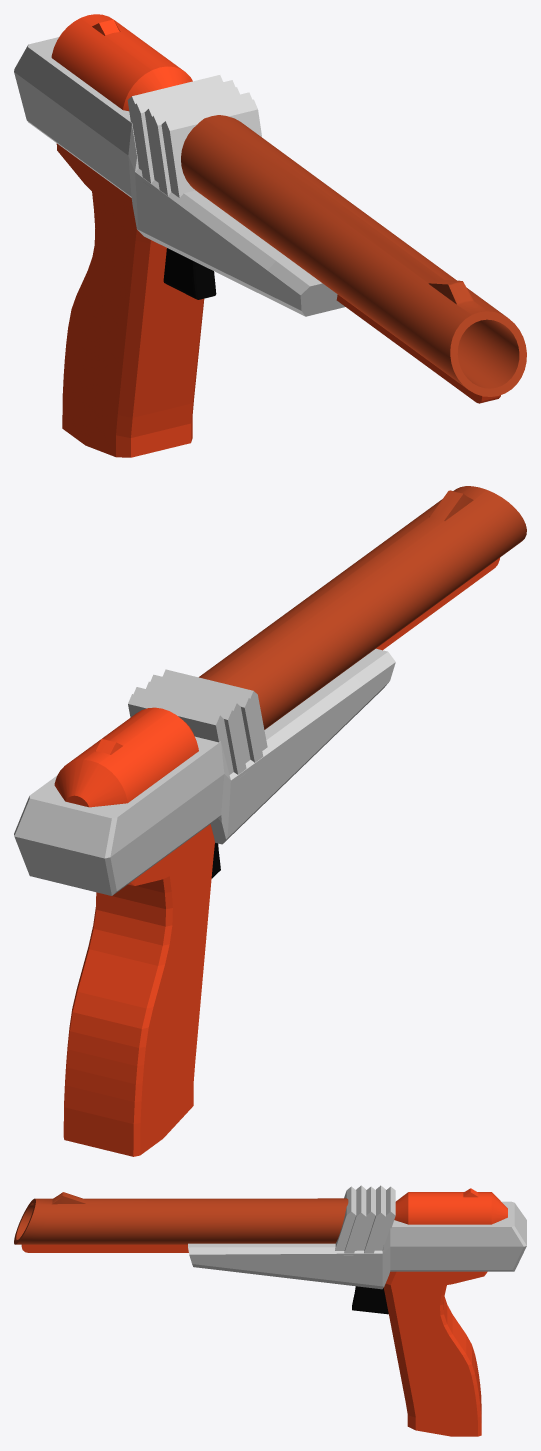
File: zapper1.fbx
The picture shows the model from 3 angles, top to bottom: view 1: azimuth 30°, elevation 25°; view 2: azimuth 150°, elevation 25°; view 3: azimuth 270°, elevation 25°; orthographic projection. The views are drawn at different scales.
Parts seen in each view (by area): view 1: Cylinder, Cube, Cube.002, Cube.003, Cylinder.001, Cube.001, Cube.004; view 2: Cube, Cube.002, Cylinder, Cylinder.001, Cube.003, Cube.004; view 3: Cylinder, Cube.002, Cube, Cylinder.001, Cube.003, Cube.004, Cube.001.
Part boxes in pixels (<box>): Cylinder: <box>181,115,526,396</box>; Cube: <box>56,143,204,457</box>; Cube.002: <box>14,37,344,316</box>; Cube.003: <box>127,75,261,197</box>; Cylinder.001: <box>51,14,192,111</box>; Cube.001: <box>163,248,216,299</box>; Cube.004: <box>336,294,500,403</box>; Cube: <box>63,824,214,1156</box>; Cube.002: <box>14,648,395,895</box>; Cylinder: <box>199,486,526,729</box>; Cylinder.001: <box>54,707,198,807</box>; Cube.003: <box>128,669,267,777</box>; Cube.004: <box>376,558,499,650</box>; Cylinder: <box>14,1192,348,1244</box>; Cube.002: <box>188,1201,526,1289</box>; Cube: <box>383,1271,487,1436</box>; Cylinder.001: <box>394,1188,507,1224</box>; Cube.003: <box>335,1185,395,1255</box>; Cube.004: <box>21,1244,188,1252</box>; Cube.001: <box>352,1286,388,1314</box>.
Size of the model in its own units: 182 by 723 by 1430.
